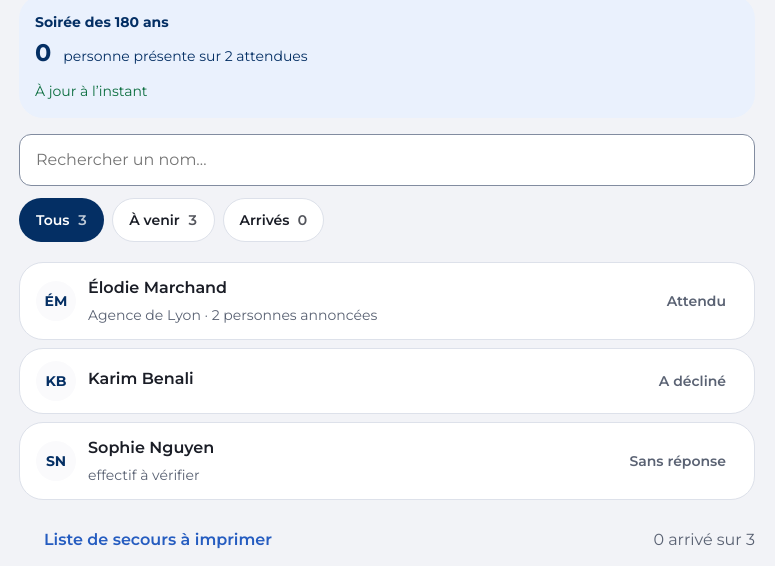
Test: poste d’accueil › trouve un nom accentué saisi sans accent
Type "elodie" into the search field at (387, 160), box [19,134,755,186]
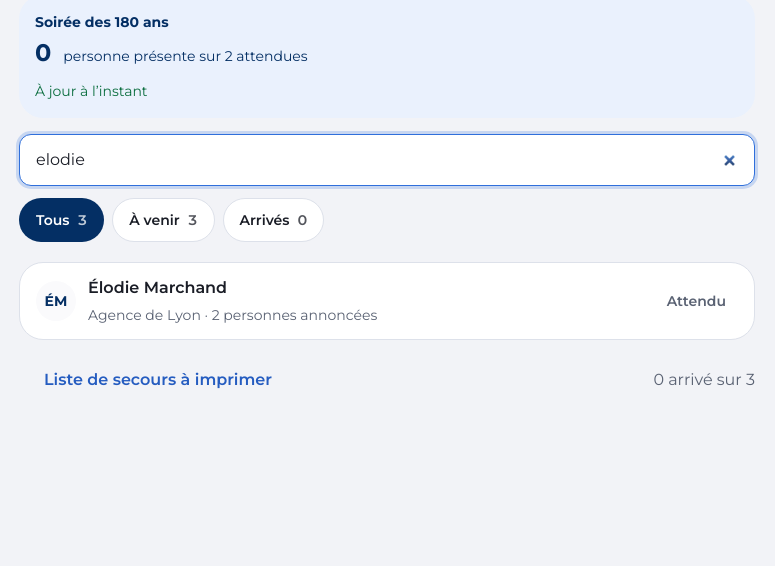
expect the button "Élodie Marchand" is shown: met, box [20,263,754,339]
expect the button "Karim Benali" is gone: met
